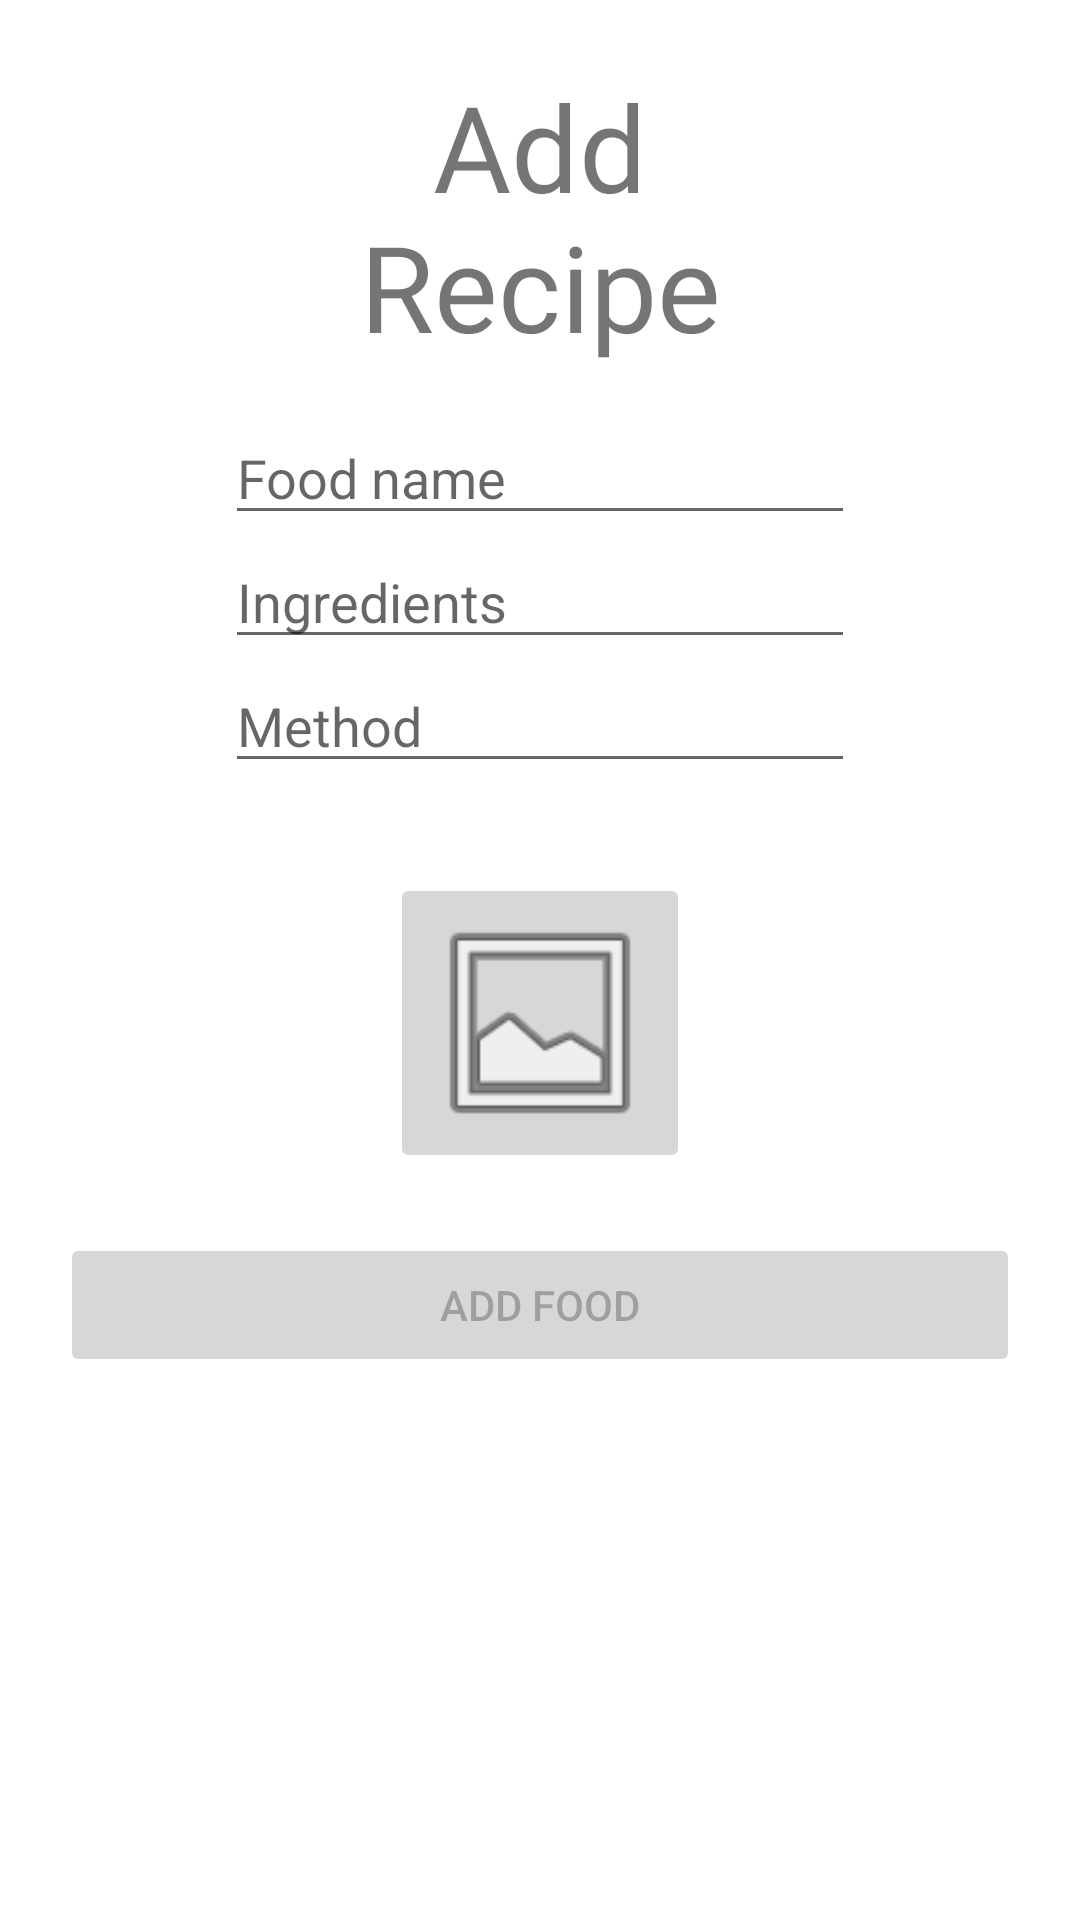

Icon bounding boxes for this 1080px×1920px phone screenshot, format Rect(x1, y1, x2, y2):
gallery: Rect(402, 891, 678, 1155)
